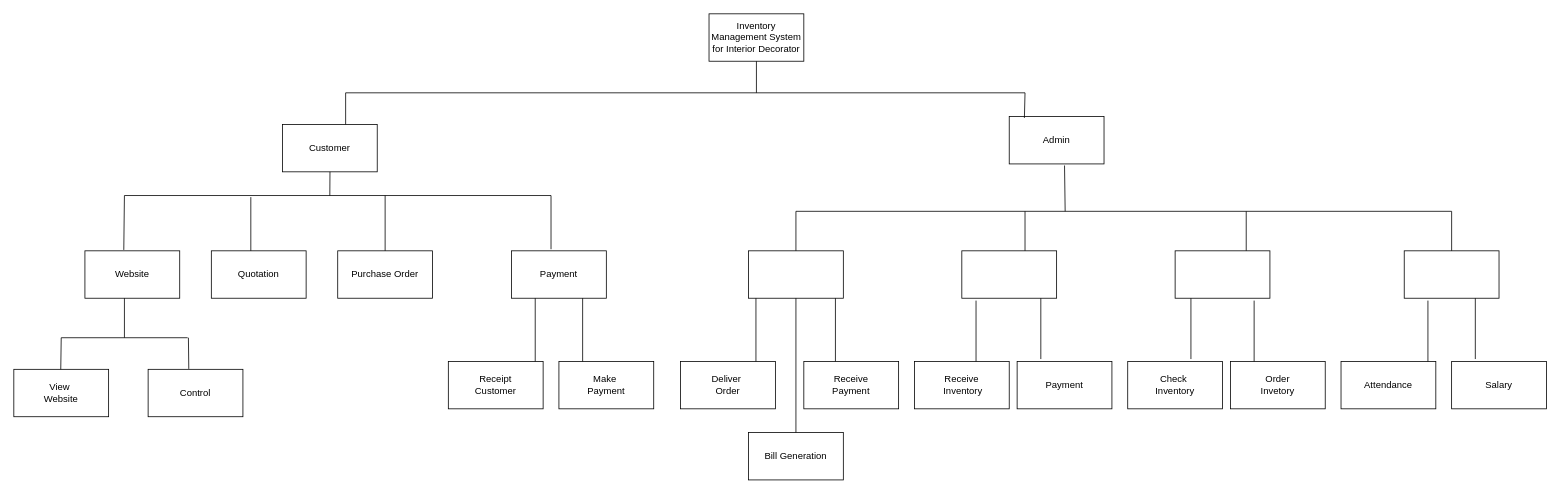
The diagram is 1560 pixels wide and 494 high, and some of its shapes have lost their labels. The shapes that lost their labels are listed below. From the top down, each one's centre as x and y in pixels, then its label:
At pixel 795 274: "Sales Order".
At pixel 1009 274: "Supplier management".
At pixel 1222 274: "Inventory Management".
At pixel 1451 274: "Employee Management".
